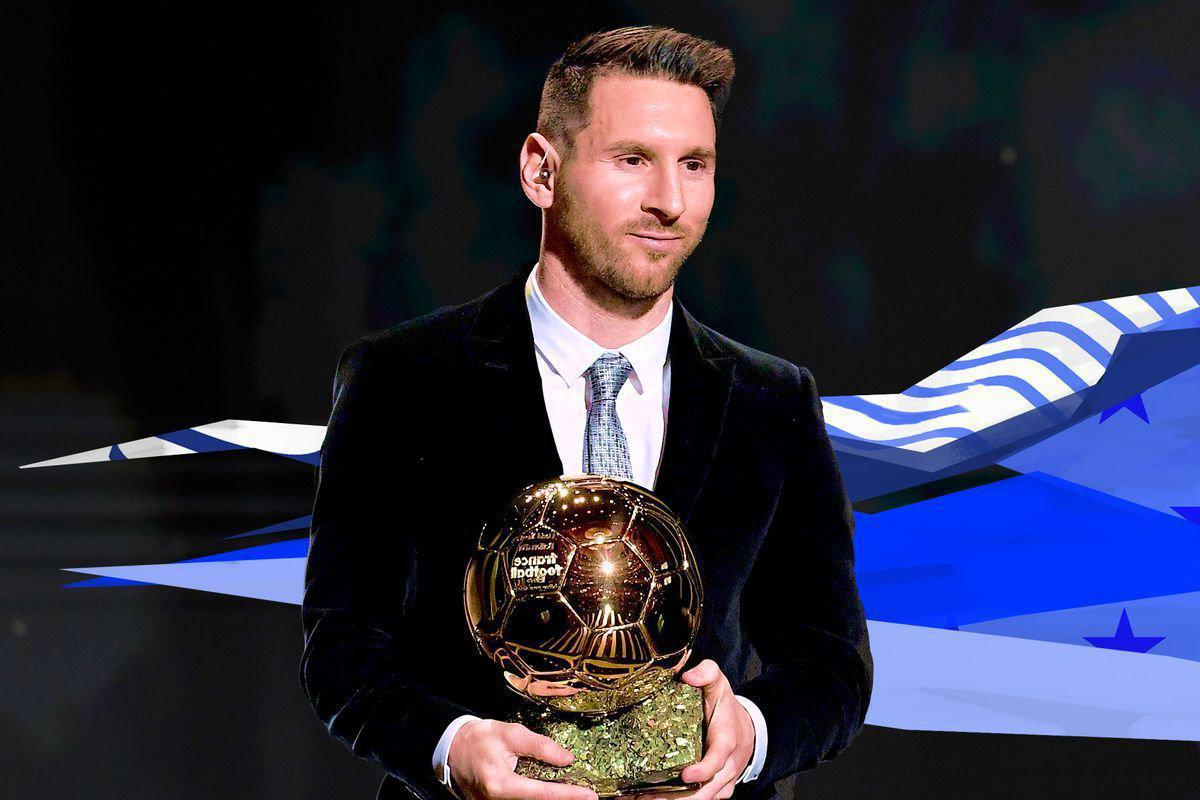Sober: (571, 72, 715, 293)
